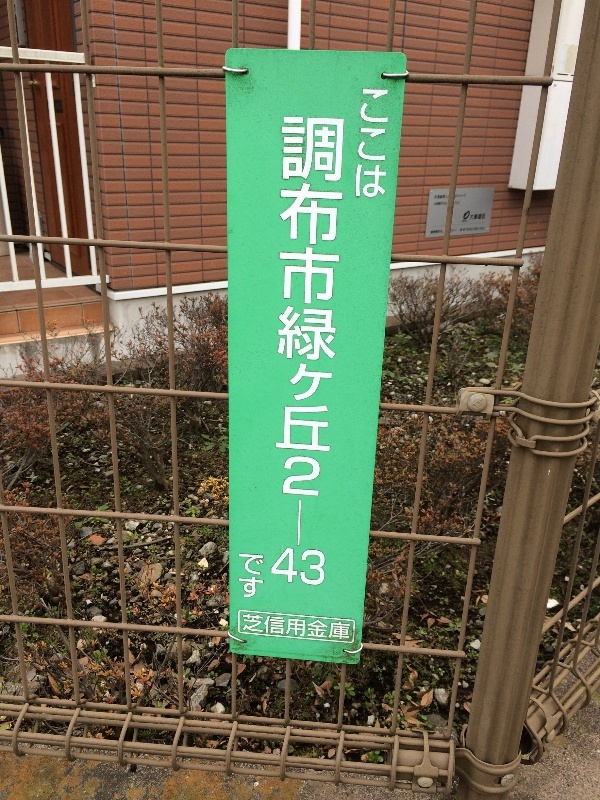text: (289, 116, 304, 589), (305, 116, 320, 589), (321, 116, 336, 589), (337, 116, 347, 589), (282, 116, 288, 589), (369, 88, 384, 198), (241, 553, 256, 600), (362, 88, 368, 198), (385, 88, 389, 198), (257, 614, 272, 640), (273, 614, 288, 640), (289, 614, 304, 640), (305, 614, 320, 640), (321, 614, 336, 640), (337, 614, 351, 640), (257, 553, 264, 600), (244, 614, 256, 640), (465, 211, 480, 222), (465, 227, 480, 232), (435, 194, 448, 199), (434, 202, 448, 206), (481, 211, 486, 222), (239, 553, 240, 600), (455, 194, 464, 199), (433, 230, 443, 234), (451, 229, 464, 232), (455, 201, 464, 205), (461, 227, 464, 232), (481, 227, 484, 232), (465, 194, 466, 199), (431, 230, 432, 234)
